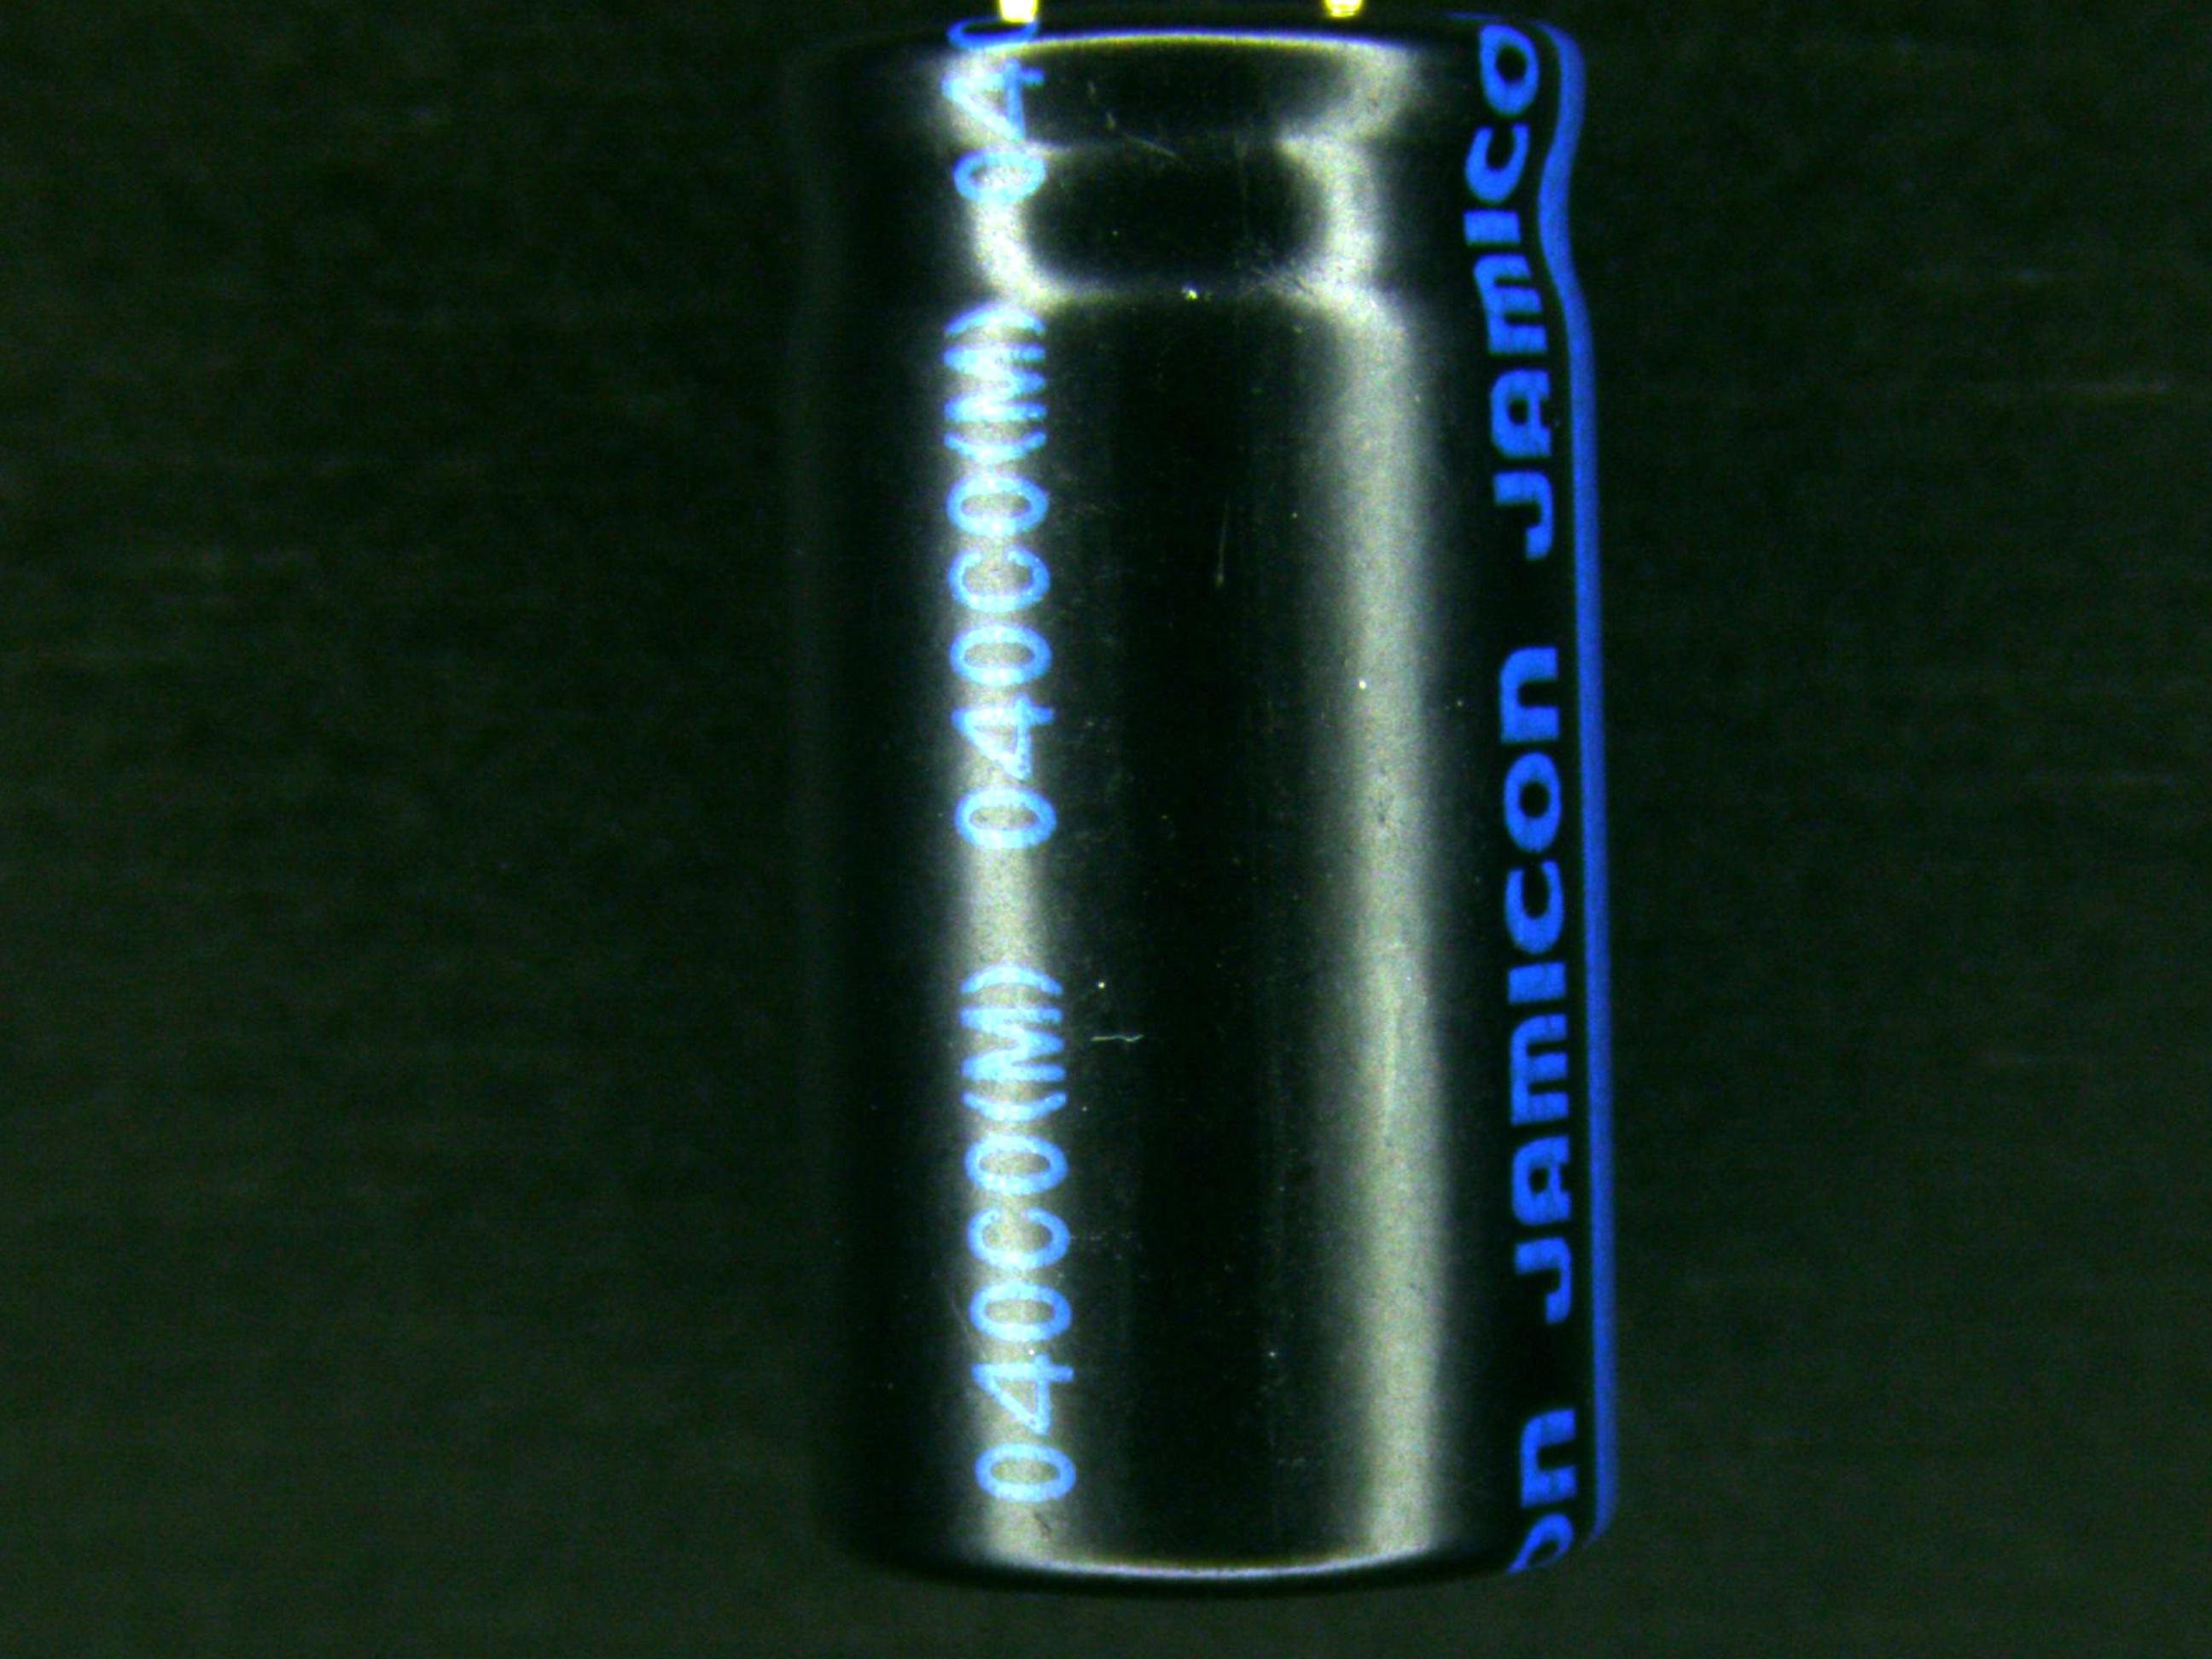c2: (775, 0, 1627, 1603)
